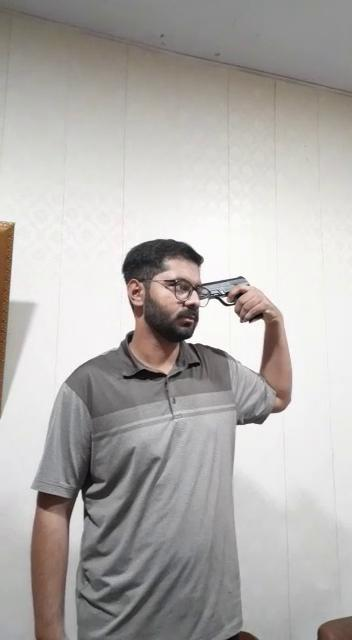criminal: (26, 233, 295, 640)
weapon: (193, 273, 255, 312)
